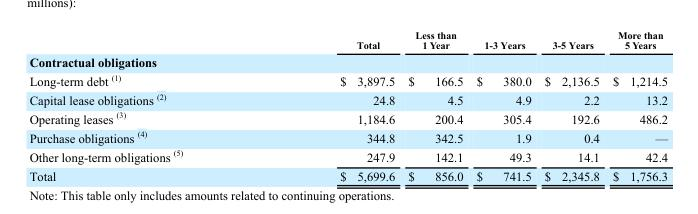table: (28, 28, 667, 182)
table column: (28, 28, 260, 182), (260, 28, 400, 182), (400, 28, 469, 182), (469, 28, 537, 182), (537, 28, 605, 182), (605, 28, 667, 182)
table column header: (28, 28, 667, 52)
table projected row header: (28, 52, 667, 70)
table row: (28, 28, 667, 52), (28, 146, 667, 166), (28, 70, 667, 89), (28, 89, 667, 108), (28, 108, 667, 127), (28, 127, 667, 146), (28, 52, 667, 70), (28, 166, 667, 182)
